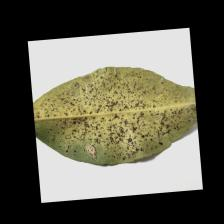canker: (86, 92, 150, 143)
